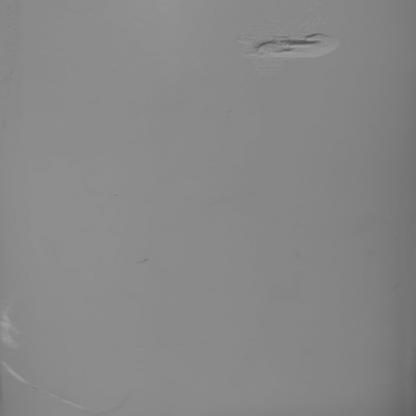sunshang: (3, 362, 102, 416), (249, 31, 340, 62), (1, 306, 23, 356)
